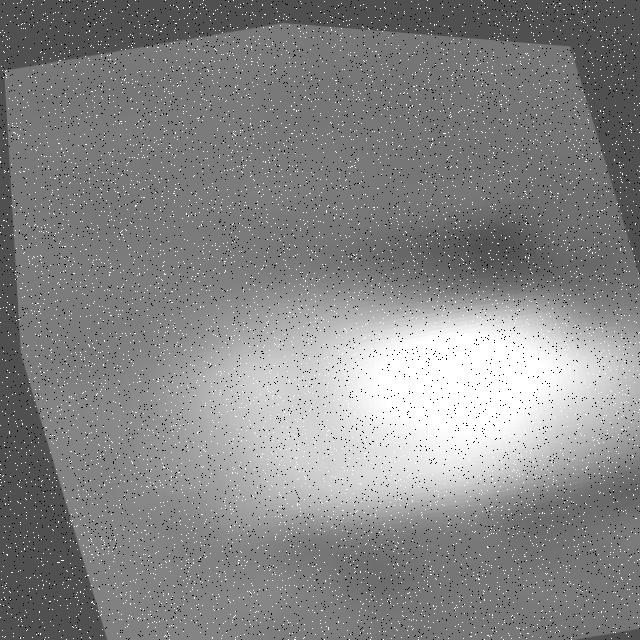person: (81, 186, 640, 606)
